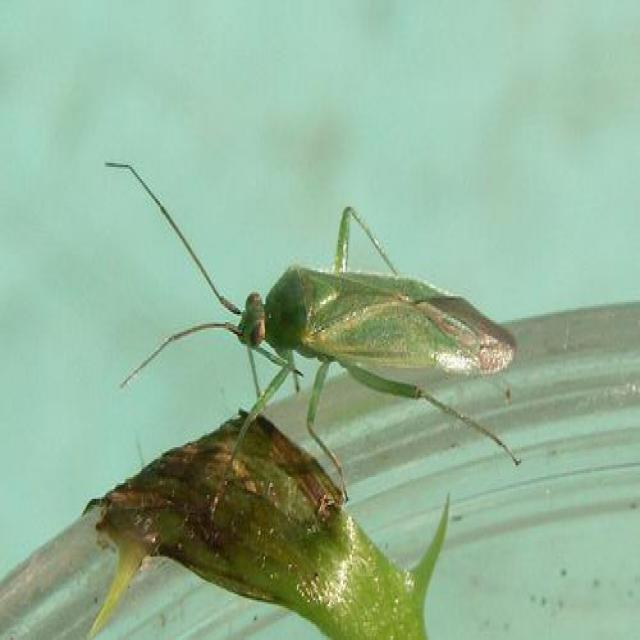Miridae-Adult-: (99, 144, 524, 476)
